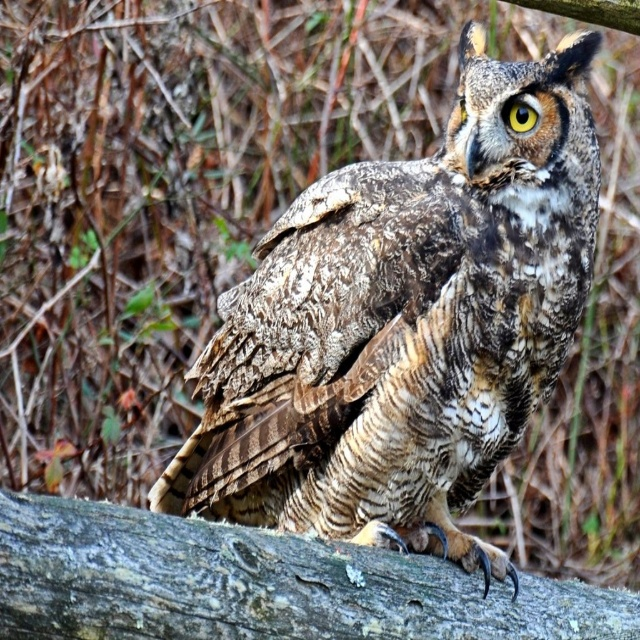Owl: (147, 19, 603, 603)
